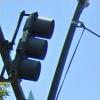traffic lights: (6, 7, 56, 83)
